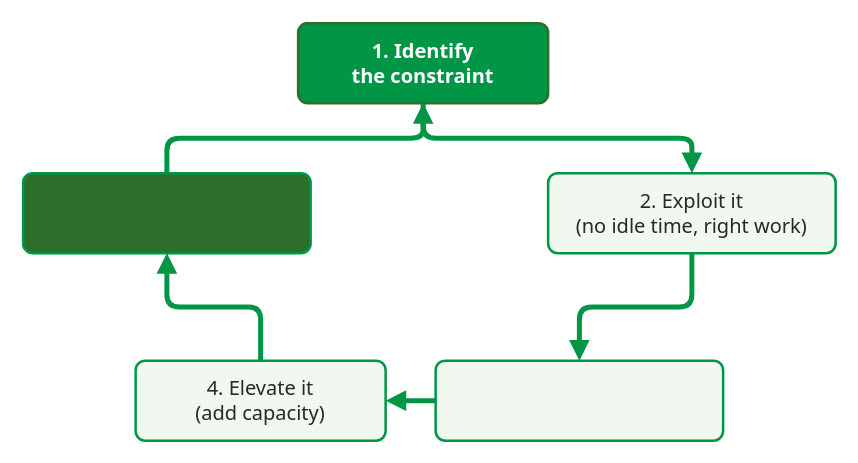
Some shapes in this 858 by 463 pixel diagram are drawn without their labels. The box of each missing label's shape, as (x1, y1, x2, y2) in pixels:
3. Subordinate everything else to it: (434, 359, 724, 441)
5. Repeat: constraint moved? beware of inertia: (21, 171, 311, 254)
